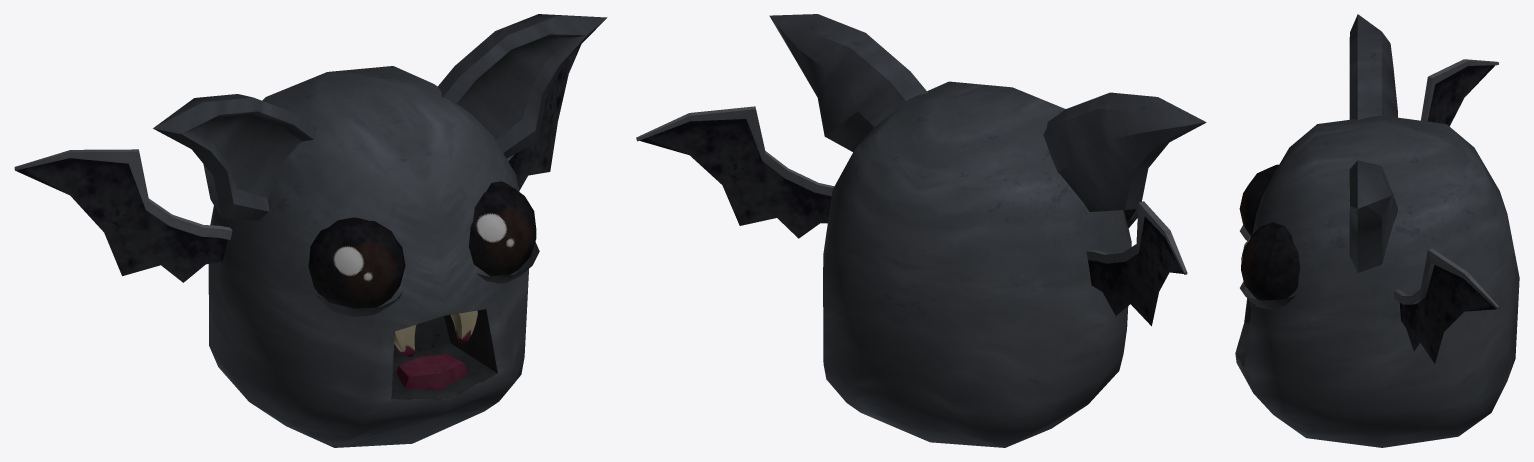
File: bat.glb
3 renders of one model, left to right at view 1: azimuth 30°, elevation 25°; view 2: azimuth 150°, elevation 25°; view 3: azimuth 270°, elevation 25°, orthographic. The views are drawn at different scales.
Parts seen in each view (by area): view 1: Bat.002_Cube.000; view 2: Bat.002_Cube.000; view 3: Bat.002_Cube.000.
Boxes of the visible parts, bbox=[...] form: Bat.002_Cube.000: bbox=[14, 14, 607, 447]; Bat.002_Cube.000: bbox=[636, 14, 1206, 447]; Bat.002_Cube.000: bbox=[1235, 14, 1519, 447].
Size of the model in its own units: 2.9 by 1.8 by 1.42.
1 material, 1 textured.
